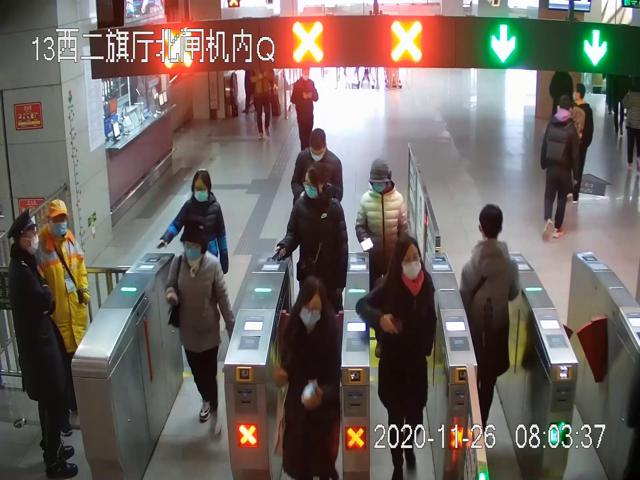person: (354, 235, 437, 480), (6, 210, 82, 477), (166, 224, 235, 436), (460, 204, 520, 434), (36, 200, 91, 436), (356, 158, 415, 355), (274, 164, 350, 312), (160, 168, 231, 274), (539, 96, 577, 241), (290, 68, 318, 151)
